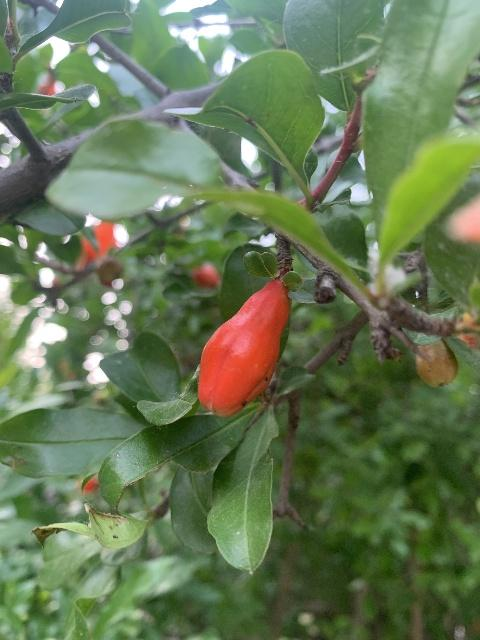bud: (197, 278, 290, 418), (414, 339, 460, 388)
